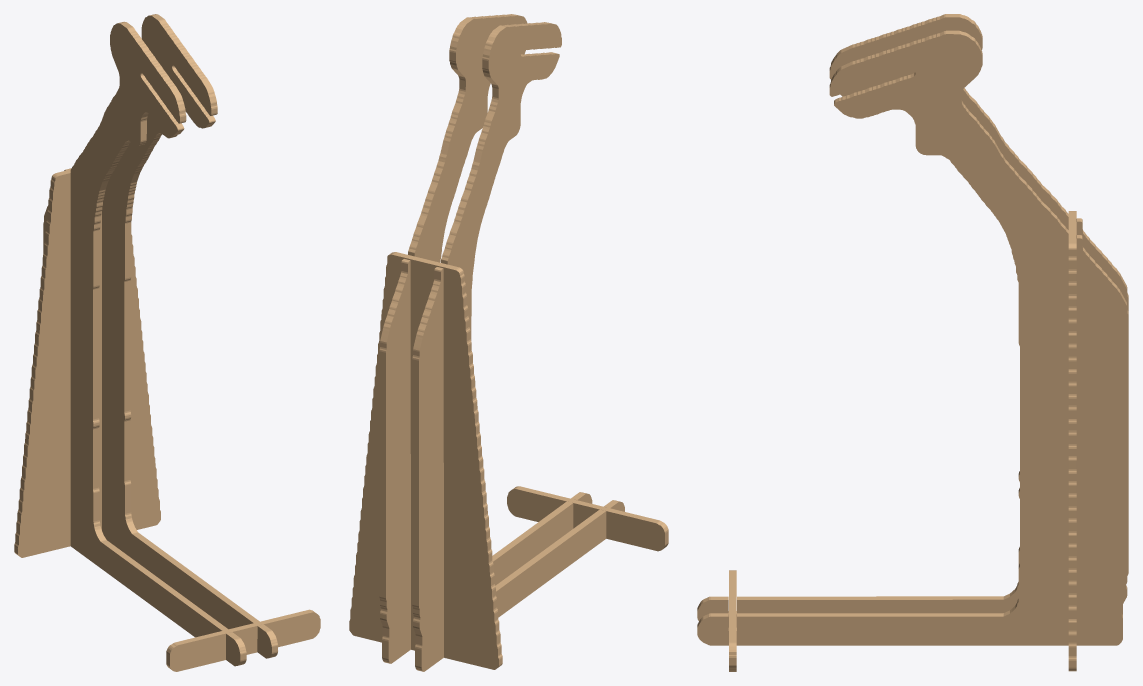
The model's file is samla.glb.
3 views of the same model, side by side, from view 1: azimuth 30°, elevation 25°; view 2: azimuth 150°, elevation 25°; view 3: azimuth 270°, elevation 25° (orthographic). The views are drawn at different scales.
Visible parts, largest first — view 1: slicer-nebbarbeid; view 2: slicer-nebbarbeid; view 3: slicer-nebbarbeid.
Boxes of the visible parts, <box> form: slicer-nebbarbeid: <box>14,14,320,671</box>; slicer-nebbarbeid: <box>349,14,668,671</box>; slicer-nebbarbeid: <box>697,14,1128,671</box>.
Size of the model in its own units: 0.0959 by 0.3395 by 0.217.
